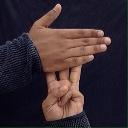hand: (27, 4, 111, 73), (42, 64, 85, 121)
